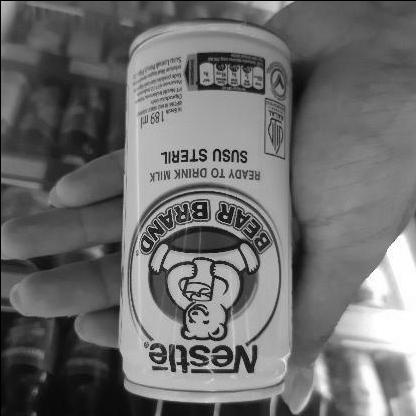alumunium_can: (125, 11, 289, 411)
